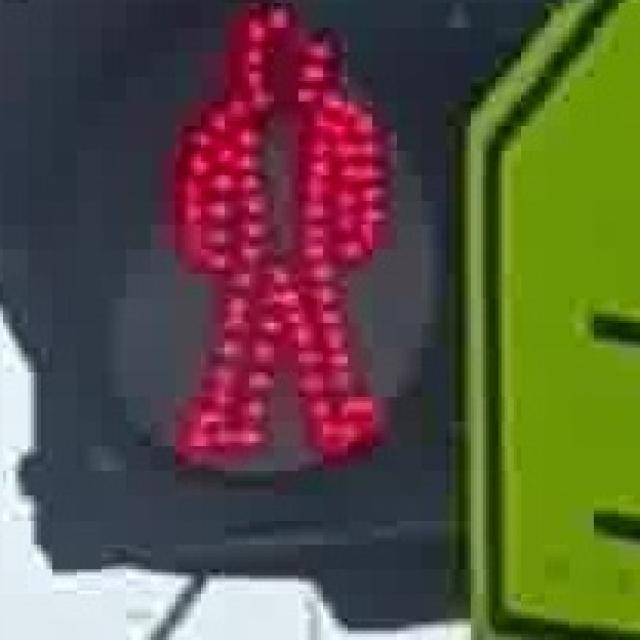red_light: (142, 0, 422, 474)
